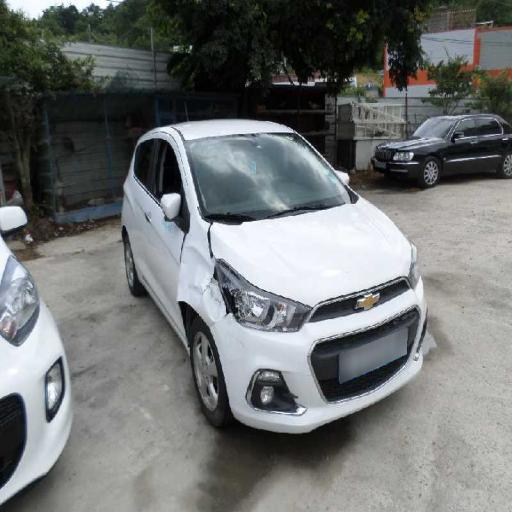broken: (168, 198, 273, 373)
